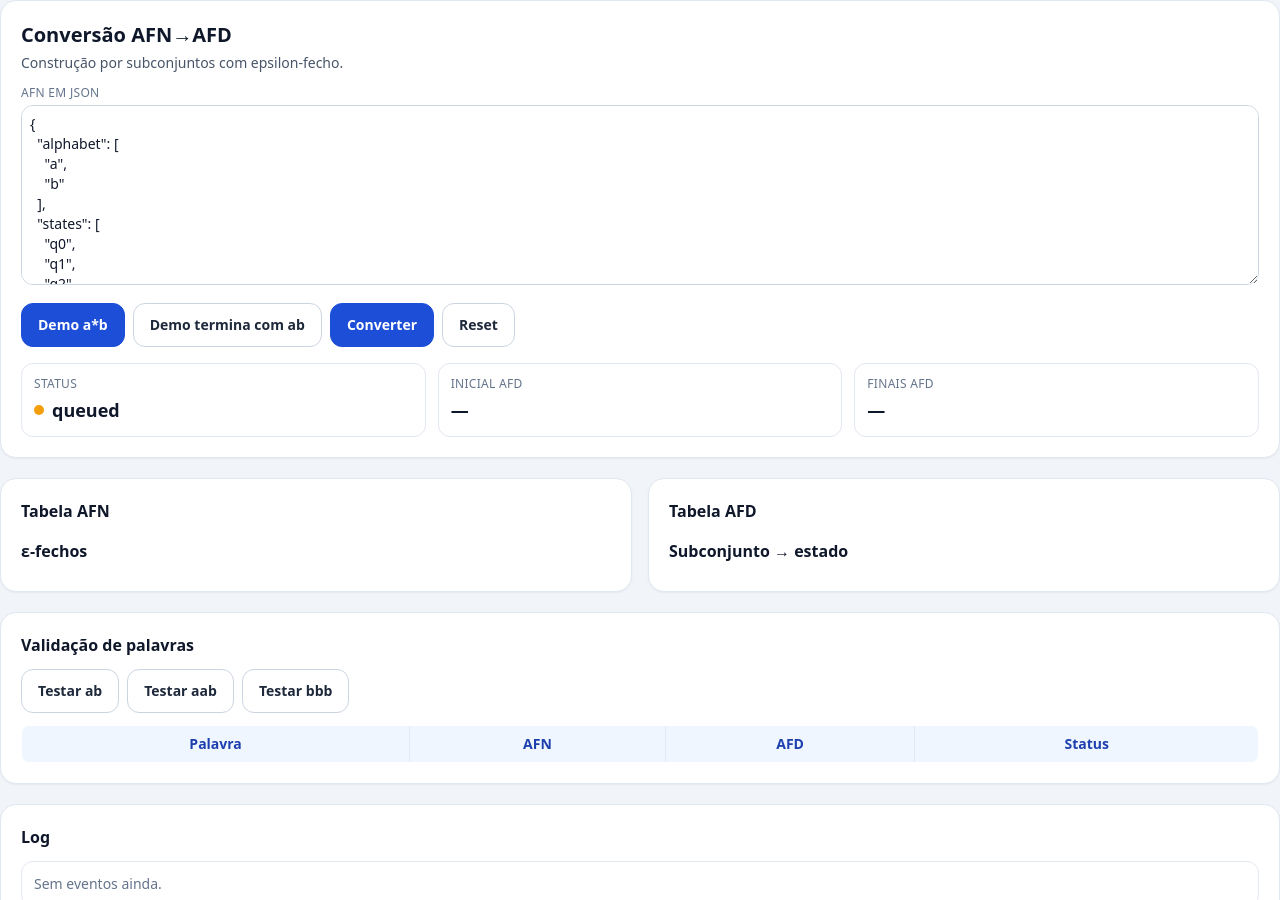
Test case: AfnConversionPanel › converte automaticamente no primeiro clique de teste de palavra
Click the button "Testar ab" at (70, 691), box [21, 669, 119, 713]
(page scrolled)
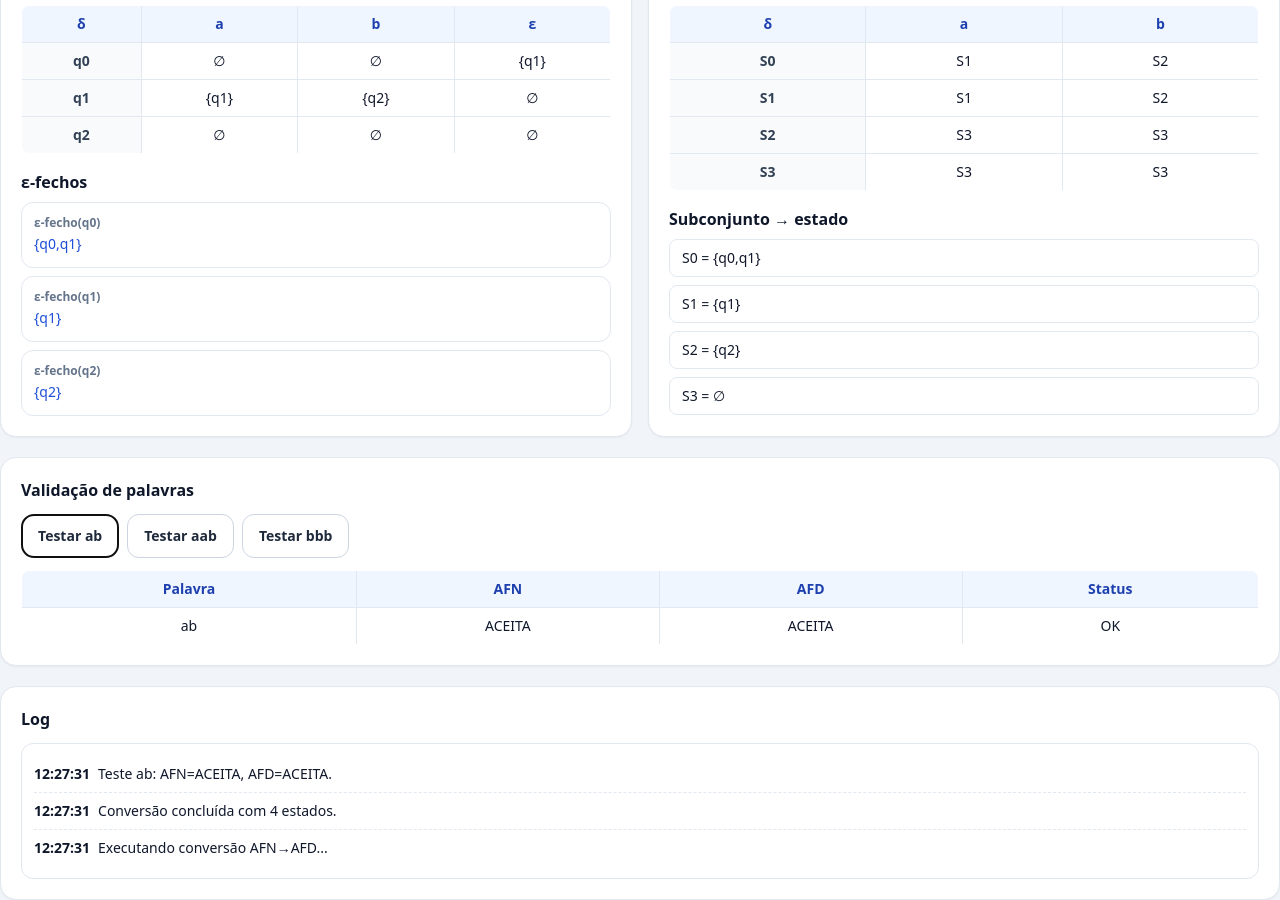
Check: the text "ab" is shown, box [22, 608, 356, 644]
